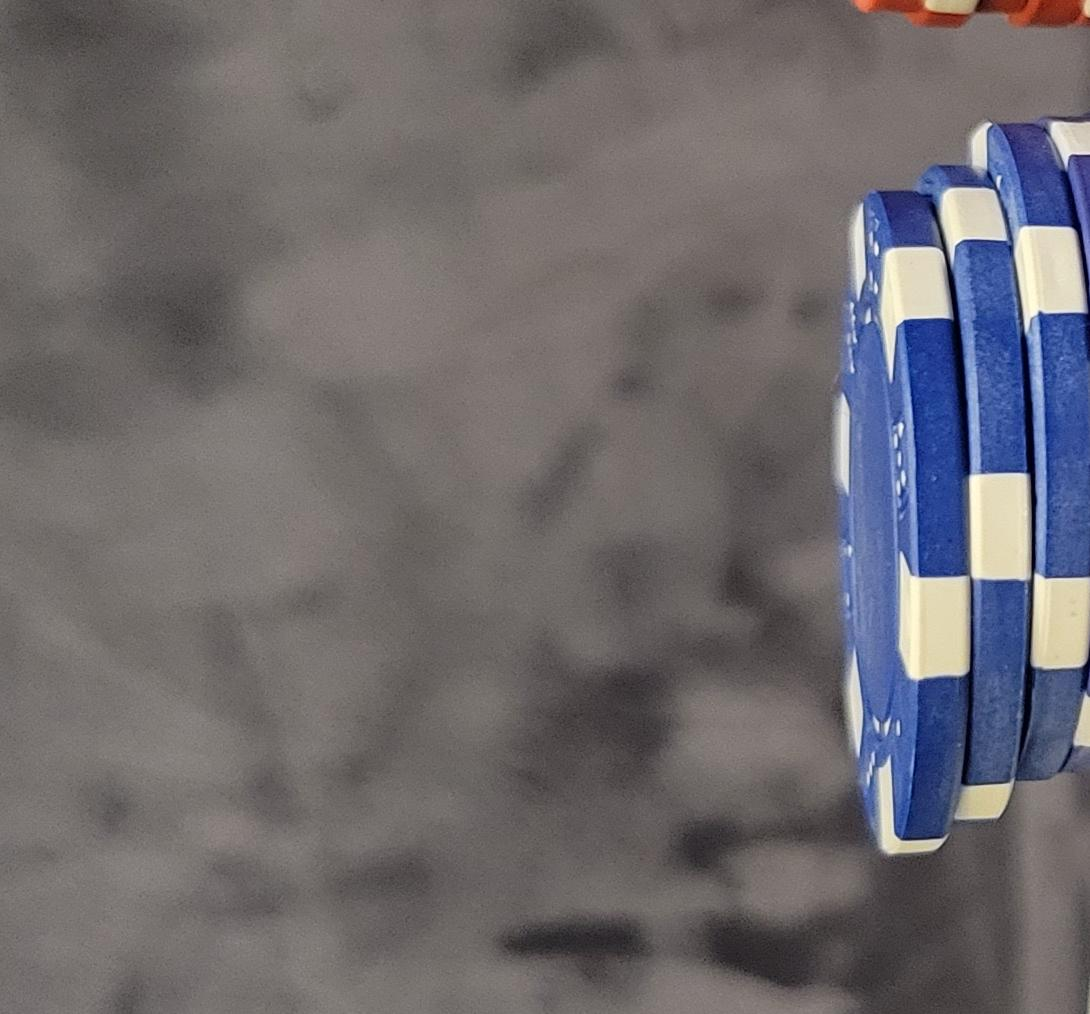Chip: (1, 364, 679, 1014)
